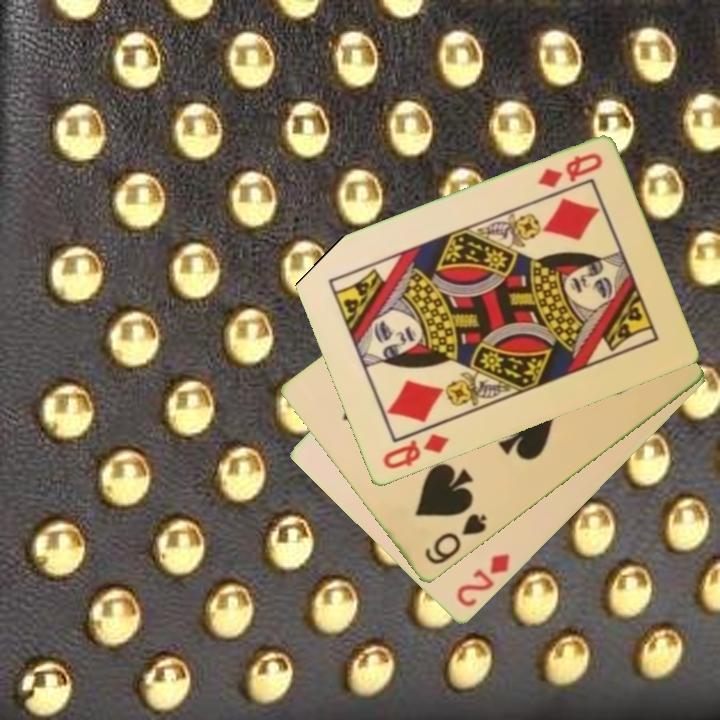2d: (452, 551, 513, 611)
6s: (421, 510, 490, 568)
Qd: (534, 149, 606, 192), (379, 431, 452, 473)
